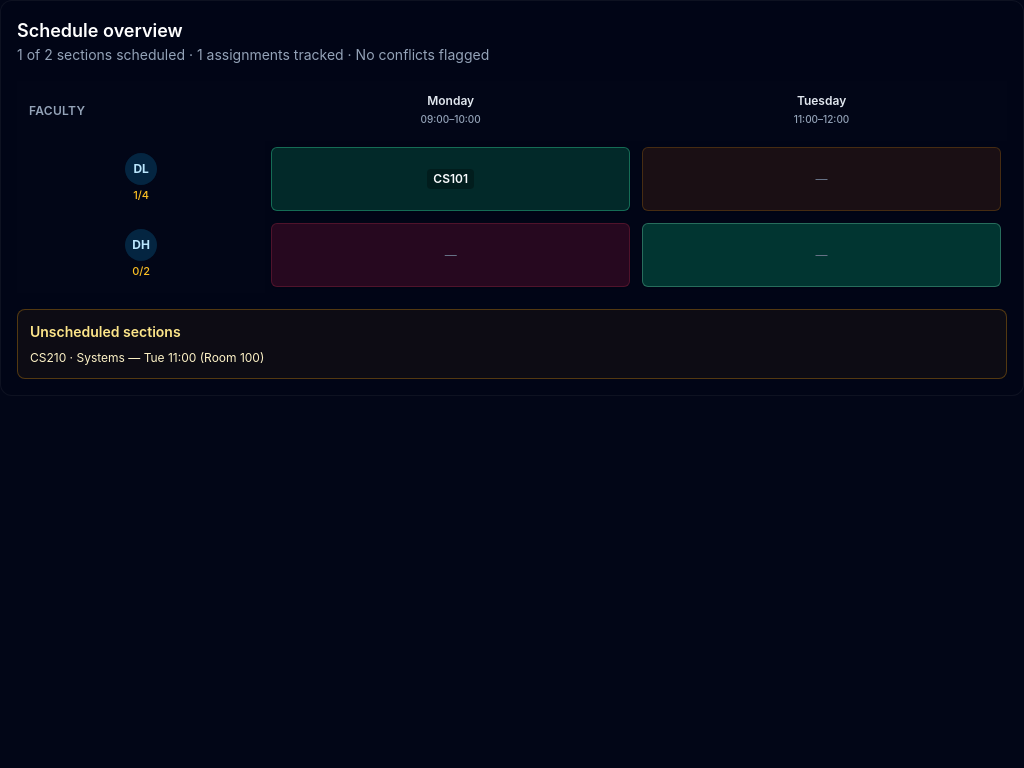
Scenario: ScheduleGrid interactions › selects a cell on click and renders assignment details
This screenshot has width=1024, height=768.
Click the button with aria-label "Dr. Ada Lovelace at Mon 09:00".
click(451, 179)  # box [271,147,630,211]
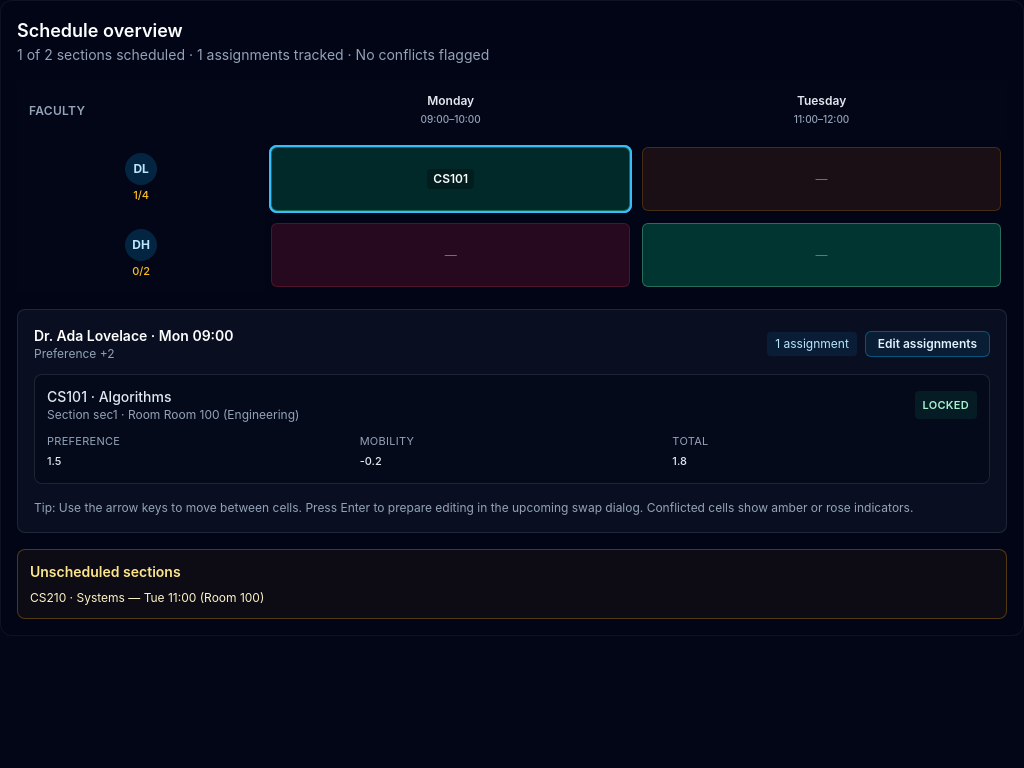
Now the text "Dr. Ada Lovelace · Mon 09:00" is shown, box [34,326,234,346]
Now the text "CS101 · Algorithms" is shown, box [47,388,172,405]
Now the text "Section sec1 · Room Room 100 (Engineering)" is shown, box [47,407,299,423]
